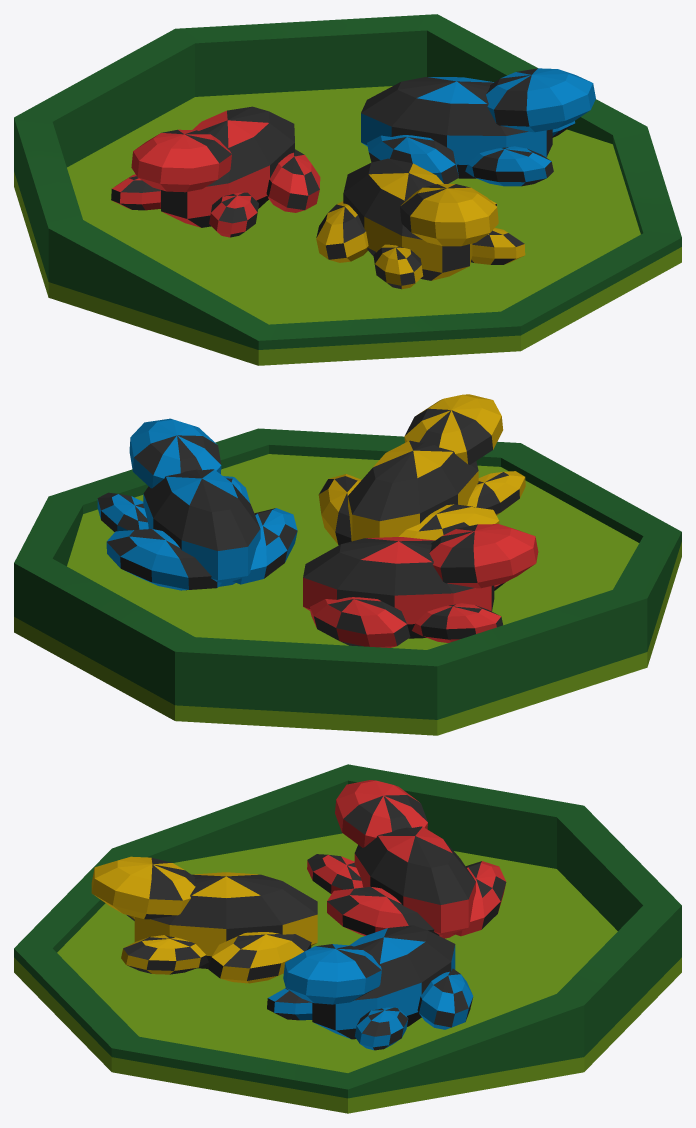
The model's file is Nature_Frog_LilyPad.fbx.
3 renders of one model, top to bottom at view 1: azimuth 30°, elevation 25°; view 2: azimuth 150°, elevation 25°; view 3: azimuth 270°, elevation 25°, orthographic. The views are drawn at different scales.
Parts seen in each view (by area): view 1: pSphere84; view 2: pSphere84; view 3: pSphere84.
Boxes of the visible parts, x1,y1,x2,y2 form: pSphere84: [14, 14, 681, 365]; pSphere84: [14, 394, 681, 735]; pSphere84: [14, 764, 681, 1113].
Size of the model in its own units: 243 by 43.71 by 243.
